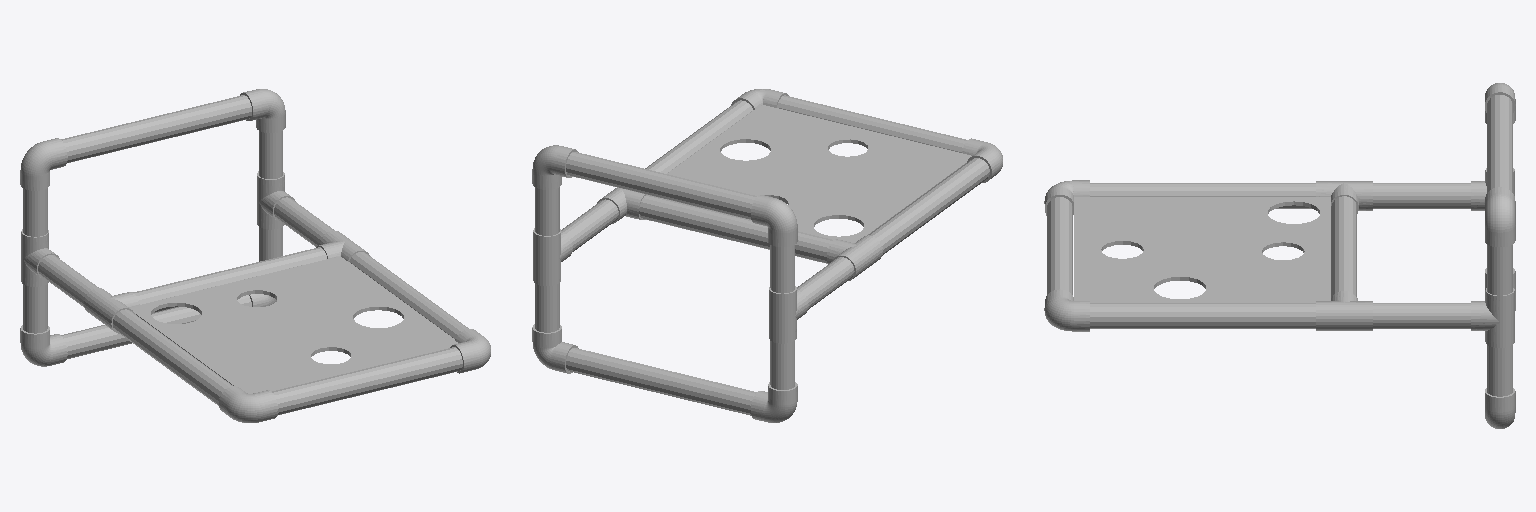
URDF robot description (rs2026_torpedo):
<?xml version="1.0" encoding="utf-8"?>
<!-- This URDF was automatically created by SolidWorks to URDF Exporter! Originally created by Stephen Brawner (brawner@gmail.com) 
     Commit Version: 1.6.0-4-g7f85cfe  Build Version: 1.6.7995.38578
     For more information, please see http://wiki.ros.org/sw_urdf_exporter -->
<robot
  name="rs2026_torpedo">
  <link
    name="base_link">
    <inertial>
      <origin
        xyz="0.127055489656095 1.07328572097546 1.62144872162049"
        rpy="0 0 0" />
      <mass
        value="11.6978808304288" />
      <inertia
        ixx="0.159462789078765"
        ixy="-9.07708763049361E-10"
        ixz="0.00678142412126772"
        iyy="0.347430920456255"
        iyz="4.06837832922139E-20"
        izz="0.201772746034743" />
    </inertial>
    <visual>
      <origin
        xyz="0 0 0"
        rpy="0 0 0" />
      <geometry>
        <mesh
          filename="package://rs2026_torpedo/meshes/base_link.STL" />
      </geometry>
      <material
        name="">
        <color
          rgba="0.752941176470588 0.752941176470588 0.752941176470588 1" />
      </material>
    </visual>
    <collision>
      <origin
        xyz="0 0 0"
        rpy="0 0 0" />
      <geometry>
        <mesh
          filename="package://rs2026_torpedo/meshes/base_link.STL" />
      </geometry>
    </collision>
  </link>
</robot>

--- Facts derived from the render (not from the file) ---
Views: 3 orthographic renders of the robot side by side, from view 1: azimuth 30°, elevation 25°; view 2: azimuth 150°, elevation 25°; view 3: azimuth 270°, elevation 25°.
Model rs2026_torpedo with 1 links and 0 joints (none), rooted at base_link, posed all joints at 0.
Visible links, largest first — view 1: base_link; view 2: base_link; view 3: base_link.
Boxes of the visible links, x1,y1,x2,y2 form: base_link: (20, 89, 490, 422); base_link: (532, 89, 1002, 422); base_link: (1044, 83, 1515, 428).
Size in the robot's own frame: 0.7356 by 1.1 by 0.5991 metres.
1 mesh visuals loaded from 1 distinct referenced files (1 binary STL).
